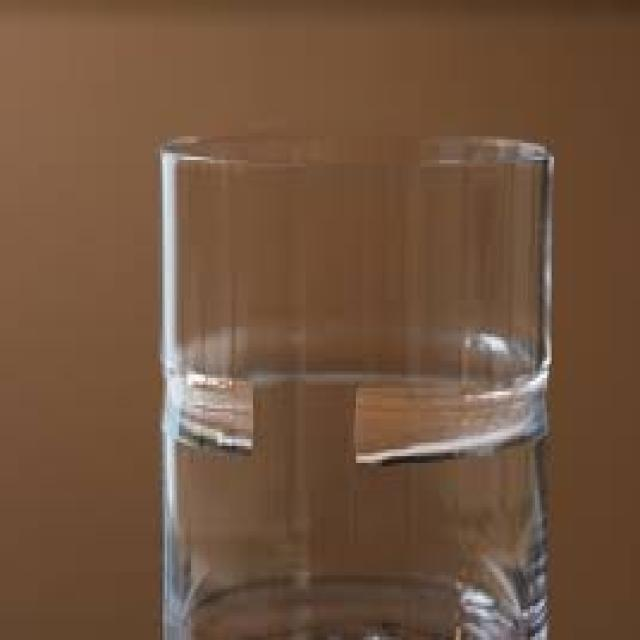glass: (155, 133, 552, 637)
